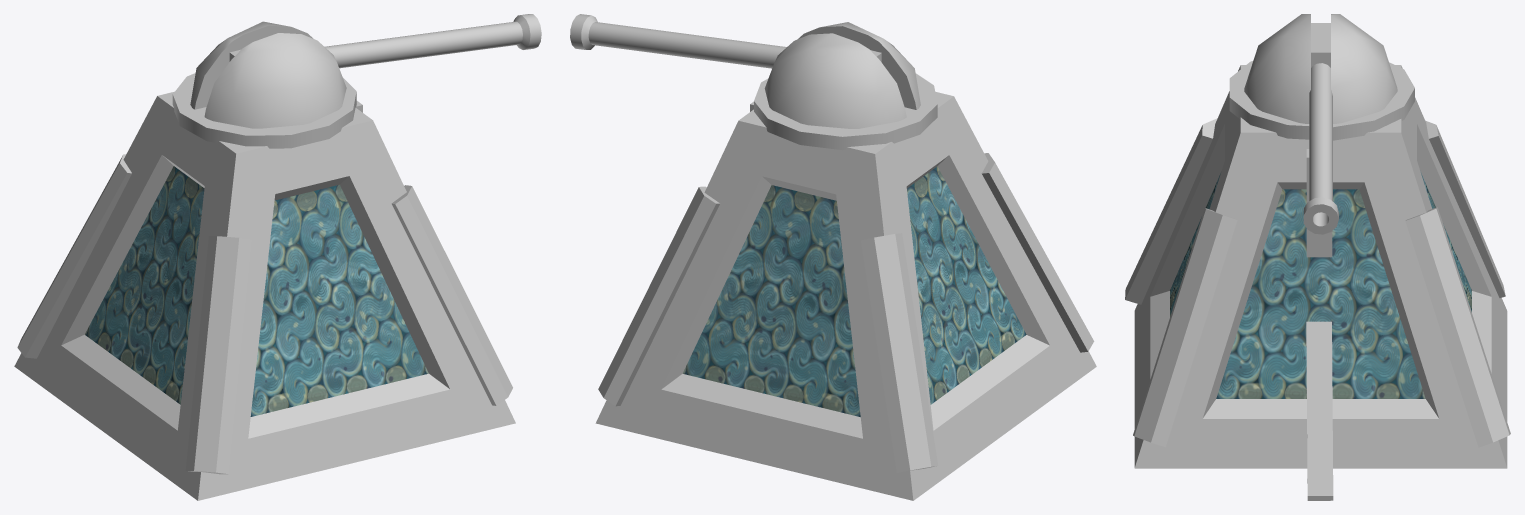
File: FireBallCannonTowerLVL4b.fbx
3 views of the same model, side by side, from view 1: azimuth 30°, elevation 25°; view 2: azimuth 150°, elevation 25°; view 3: azimuth 270°, elevation 25° (orthographic).
Parts seen in each view (by area): view 1: Cube.019, Cylinder.002, Cube.021, Cube.020, Cube.022; view 2: Cube.019, Cylinder.002, Cube.022, Cube.023, Cube.021; view 3: Cube.019, Cylinder.002, Cube.023, Cube.020, Cube.025, Cube.021, Cube.022, Cube.024.
Boxes of the visible parts, <box> form: Cube.019: <box>14,91,515,500</box>; Cylinder.002: <box>172,14,541,148</box>; Cube.021: <box>185,236,251,474</box>; Cube.020: <box>391,185,512,405</box>; Cube.022: <box>17,154,131,358</box>; Cube.019: <box>595,91,1096,500</box>; Cylinder.002: <box>570,14,937,150</box>; Cube.022: <box>860,233,938,473</box>; Cube.023: <box>598,186,720,406</box>; Cube.021: <box>981,153,1094,352</box>; Cube.019: <box>1134,65,1507,468</box>; Cylinder.002: <box>1229,14,1414,234</box>; Cube.023: <box>1405,207,1510,447</box>; Cube.020: <box>1133,208,1237,447</box>; Cube.025: <box>1306,321,1333,500</box>; Cube.021: <box>1125,118,1217,304</box>; Cube.022: <box>1425,120,1505,297</box>; Cube.024: <box>1306,149,1332,257</box>.
Size of the model in its own units: 398 by 336 by 301.
